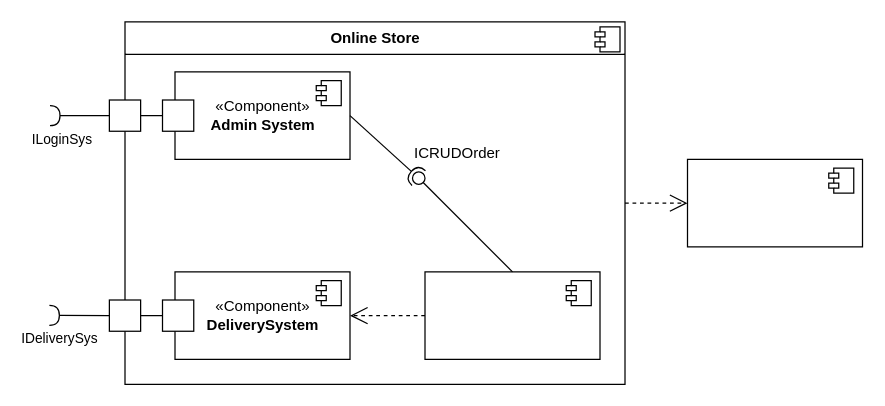
This 885x406 diagram has some shape labels left out. The shapes that lost their labels are listed below. From the top down, each one's centre as x and y in pixels, then its label:
At pixel 774 202: "«Component» DataBase".
At pixel 512 315: "«Component» OrderSystem".
